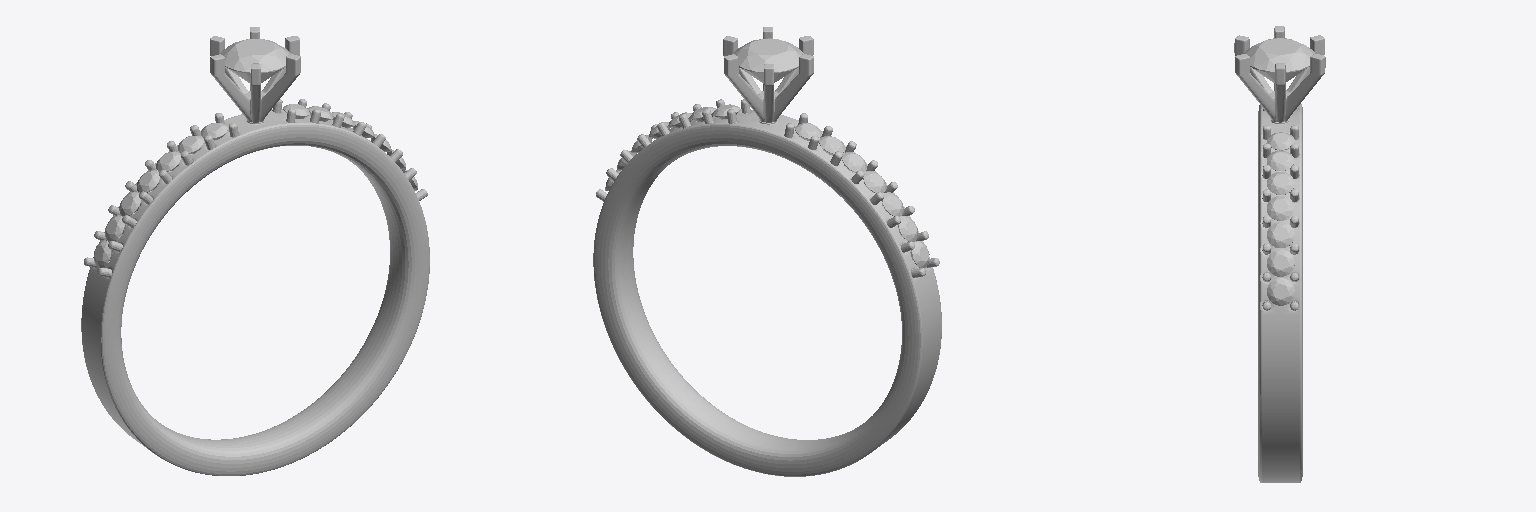
Rendered from the_crowned_ring.obj.
3 views of the same model, side by side, from view 1: azimuth 30°, elevation 25°; view 2: azimuth 150°, elevation 25°; view 3: azimuth 270°, elevation 25° (orthographic).
Visible parts, largest first — view 1: _1, default; view 2: _1, default; view 3: _1, default.
Part boxes in pixels (x1,y1,x2,y2): _1: (81,27,429,475); default: (94,39,417,267); _1: (593,27,941,476); default: (605,38,929,267); _1: (1234,26,1325,482); default: (1244,38,1314,305).
Size of the model in its own units: 1.98 by 2.4 by 0.4745.